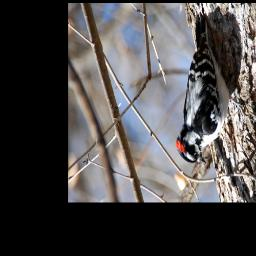Woodpecker: (173, 13, 232, 168)
